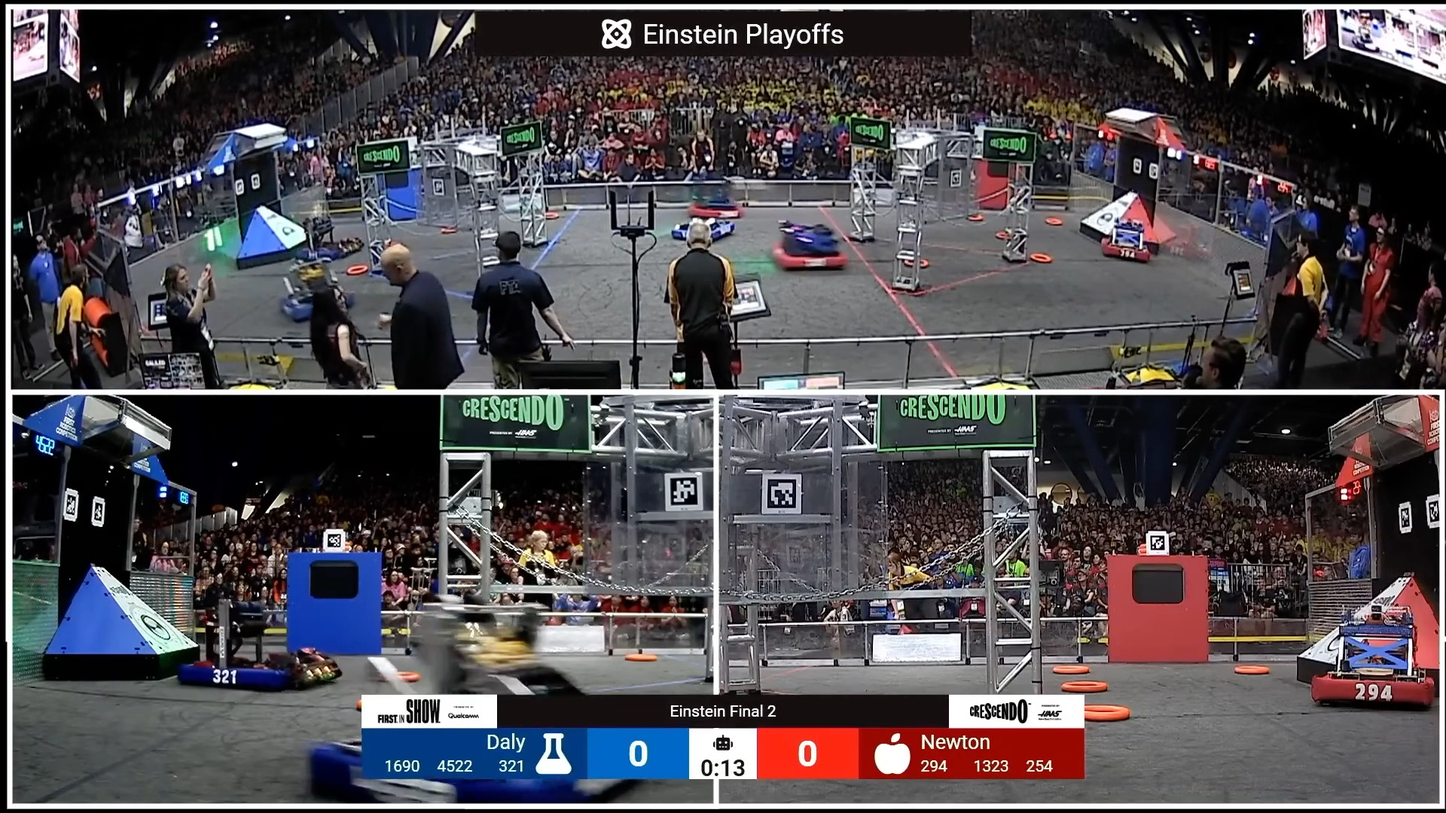bumpers: (300, 727, 692, 802), (182, 657, 323, 696), (1308, 669, 1439, 708), (1084, 217, 1177, 267), (770, 232, 861, 279), (281, 290, 358, 323), (673, 217, 745, 247), (298, 239, 365, 263), (685, 201, 751, 223)
